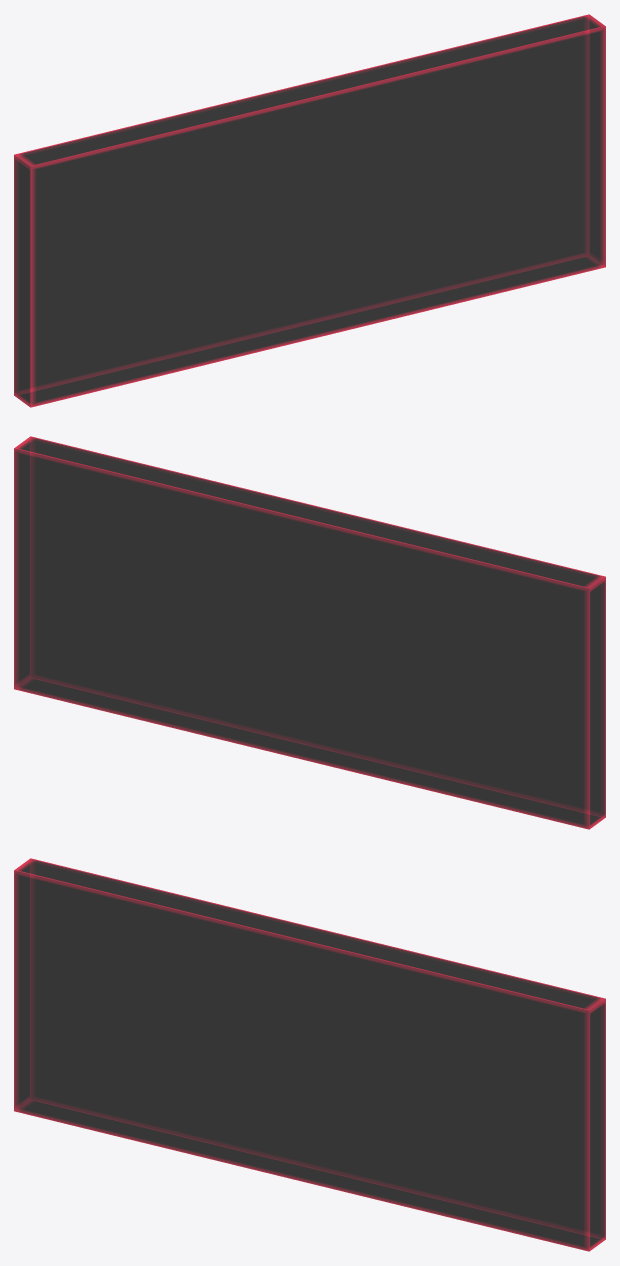
Rendered from FireWall.fbx.
3 renders of one model, top to bottom at view 1: azimuth 30°, elevation 25°; view 2: azimuth 150°, elevation 25°; view 3: azimuth 330°, elevation 25°, orthographic.
Visible parts, largest first — view 1: pCube1; view 2: pCube1; view 3: pCube1.
Boxes of the visible parts, bbox=[...] form: pCube1: bbox=[14, 14, 605, 407]; pCube1: bbox=[14, 436, 605, 829]; pCube1: bbox=[14, 858, 605, 1251].
Size of the model in its own units: 10 by 4 by 0.5.
